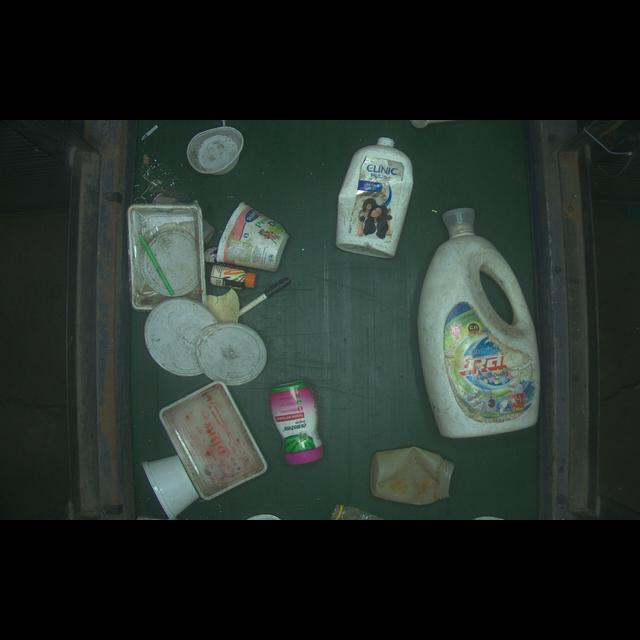mix PP: (418, 205, 549, 441), (335, 131, 416, 267), (257, 379, 339, 470), (366, 439, 463, 508), (219, 197, 289, 272)
